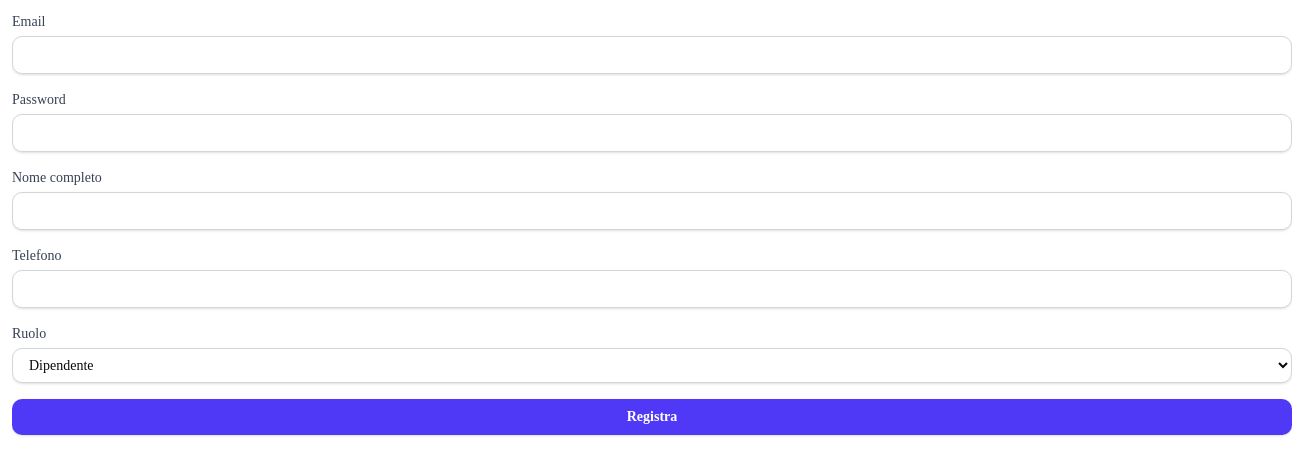
Test: RegisterPage / RegisterForm › validation › shows full_name required error
The image size is (1304, 473).
Step 1. Type "mario@example.com" into the field labelled "Email" → point(652, 55), box [12,36,1292,74]
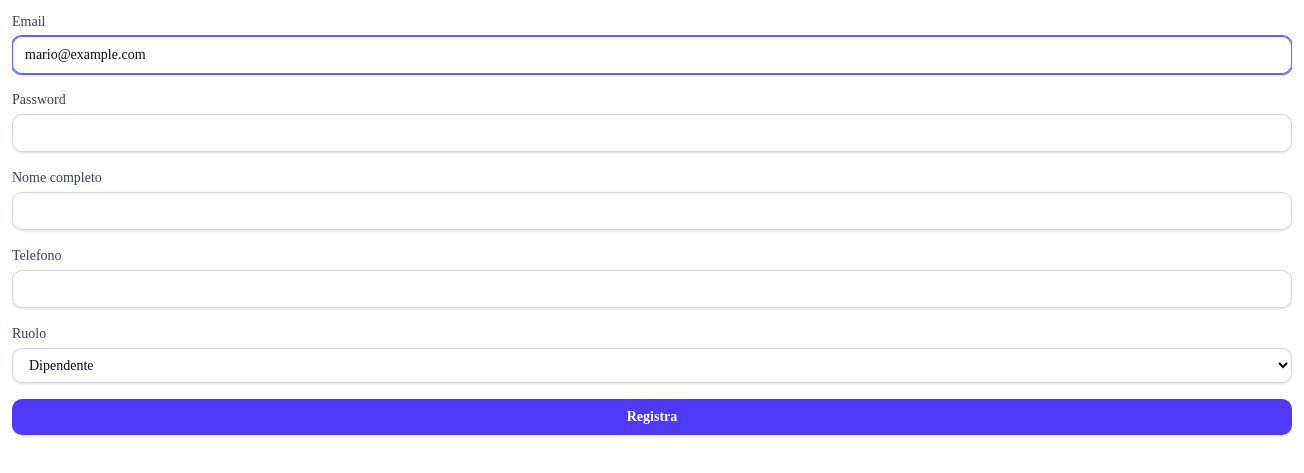
Step 2. Type "password123" into the password field labelled "Password" → point(652, 133), box [12,114,1292,152]
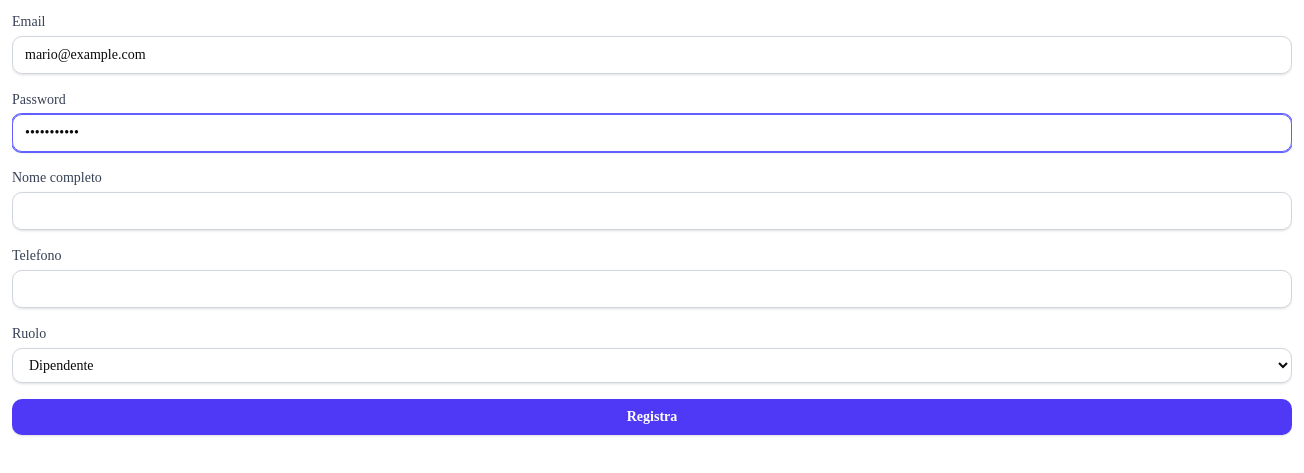
Step 3. Type "3331234567" into the field labelled "Telefono" → point(652, 289), box [12,270,1292,308]
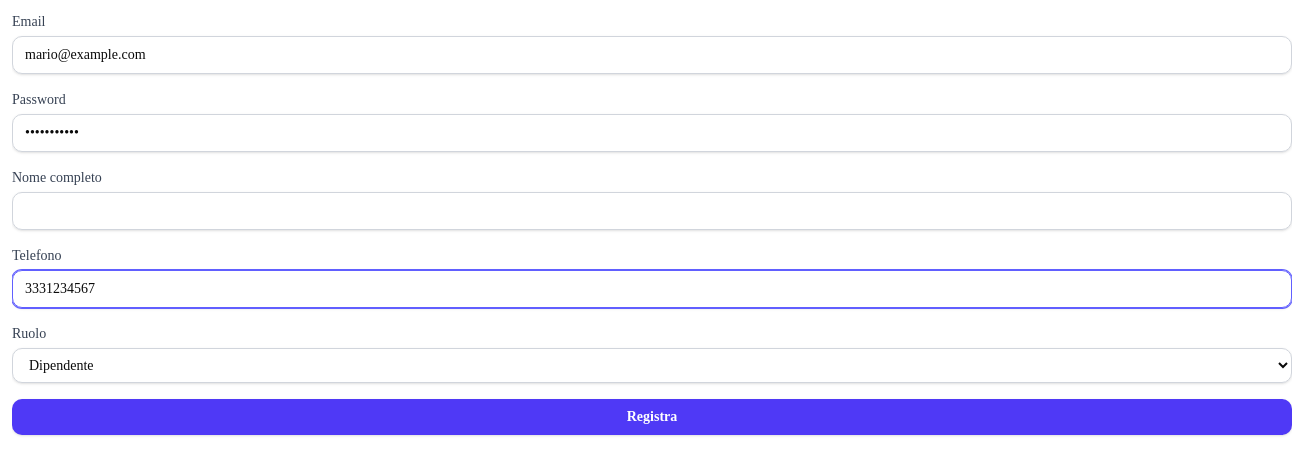
Step 4. Click the button "Registra" → point(652, 417), box [12,399,1292,435]
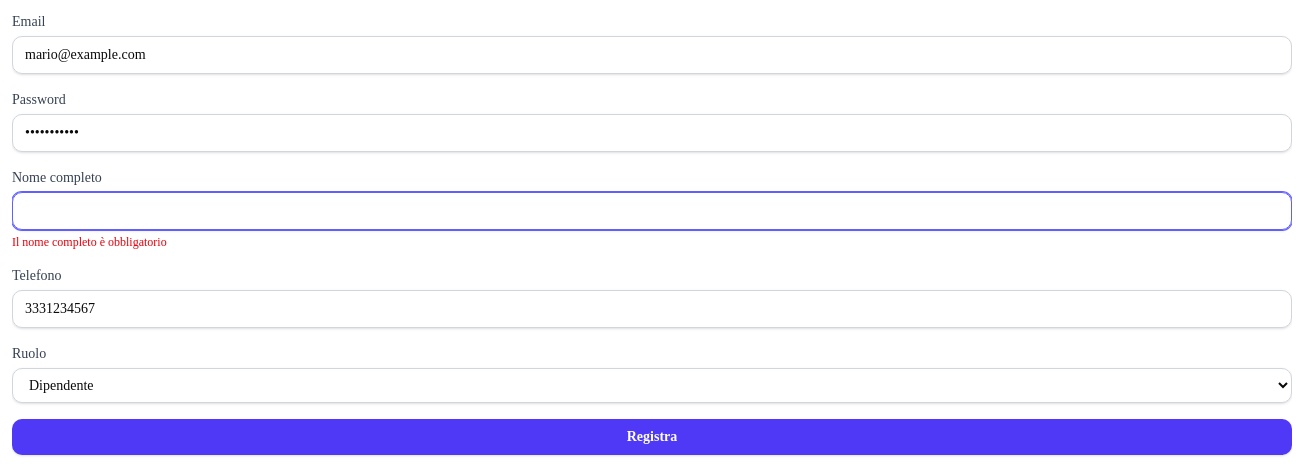
Result: the text "Il nome completo è obbligatorio" is shown at [12,235,167,249]
